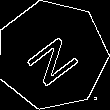N_NE: (20, 24, 85, 87)
